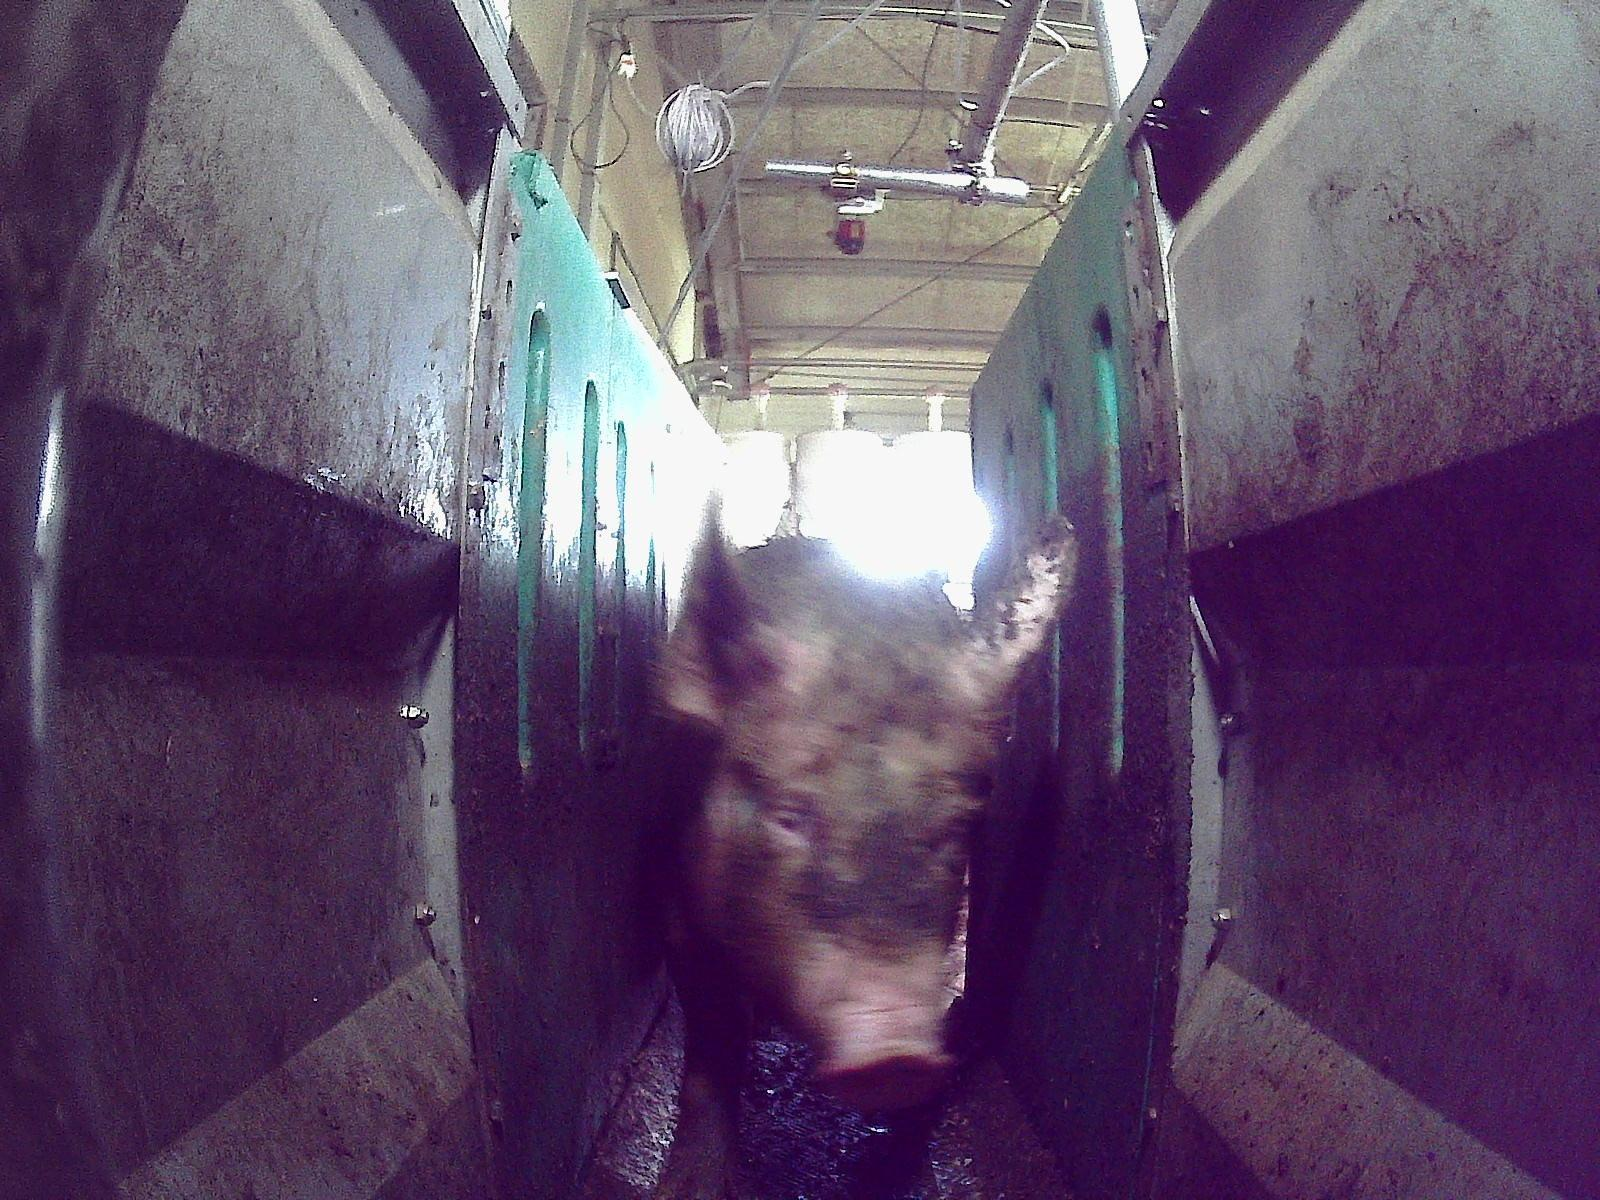Face: (720, 645, 983, 1106)
